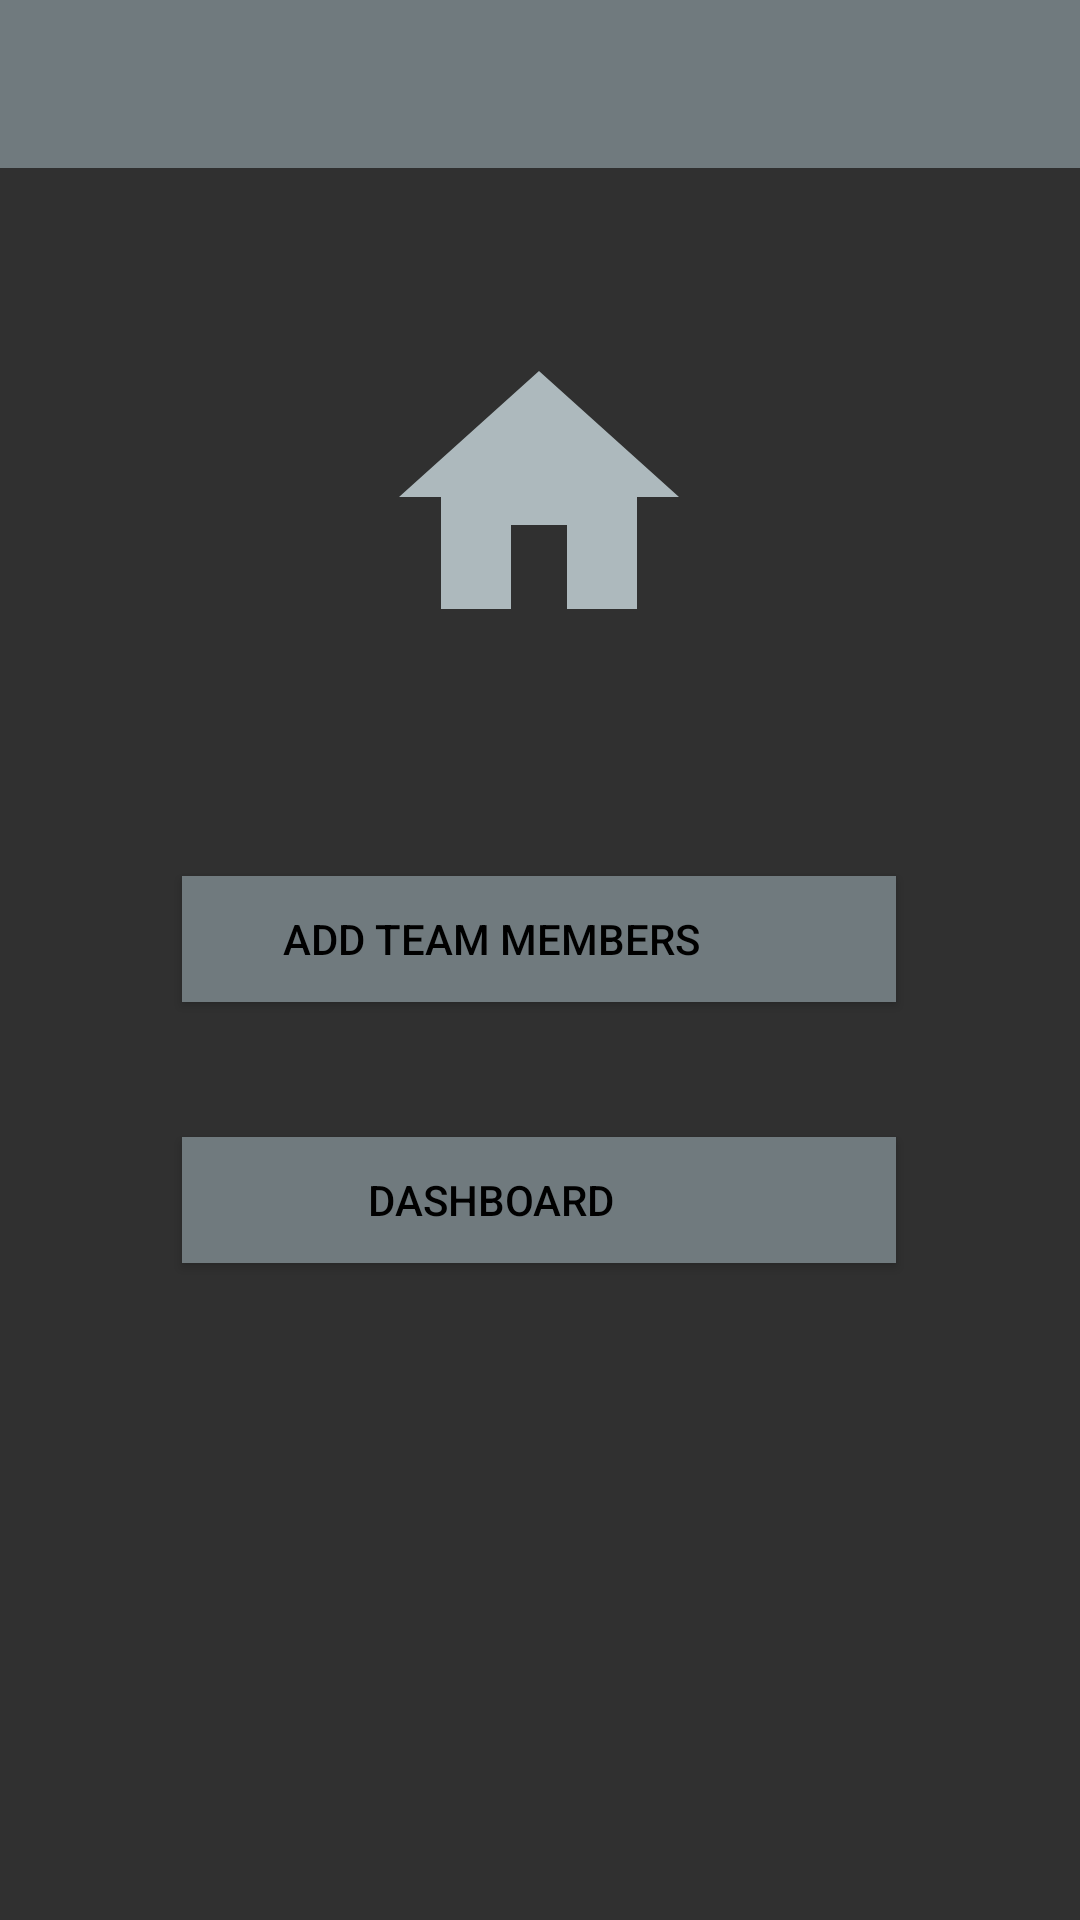

Named icons in this screenshot (1080px x 1920px) and their bounding boxes, (x1, y1, x2, y2):
home: (399, 371, 679, 609)
